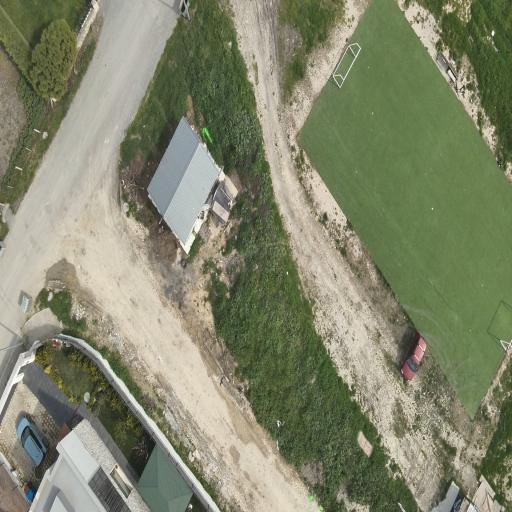car: (16, 416, 46, 466), (400, 332, 425, 381)
